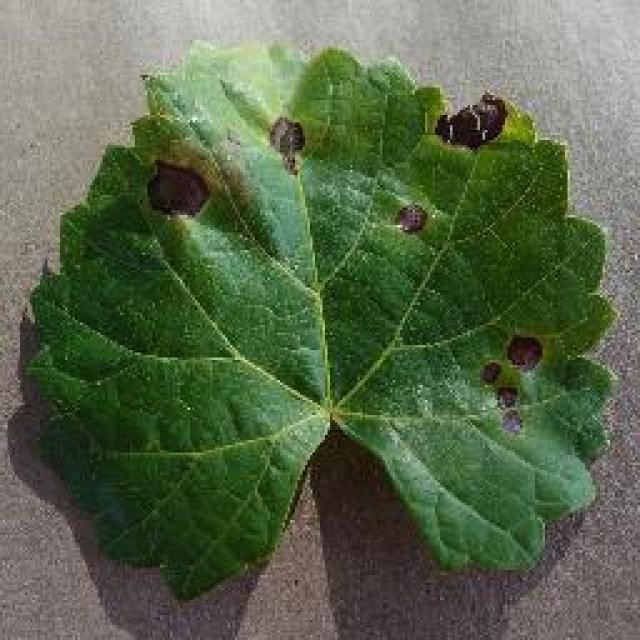Grape___Black_rot: (21, 35, 625, 610)
